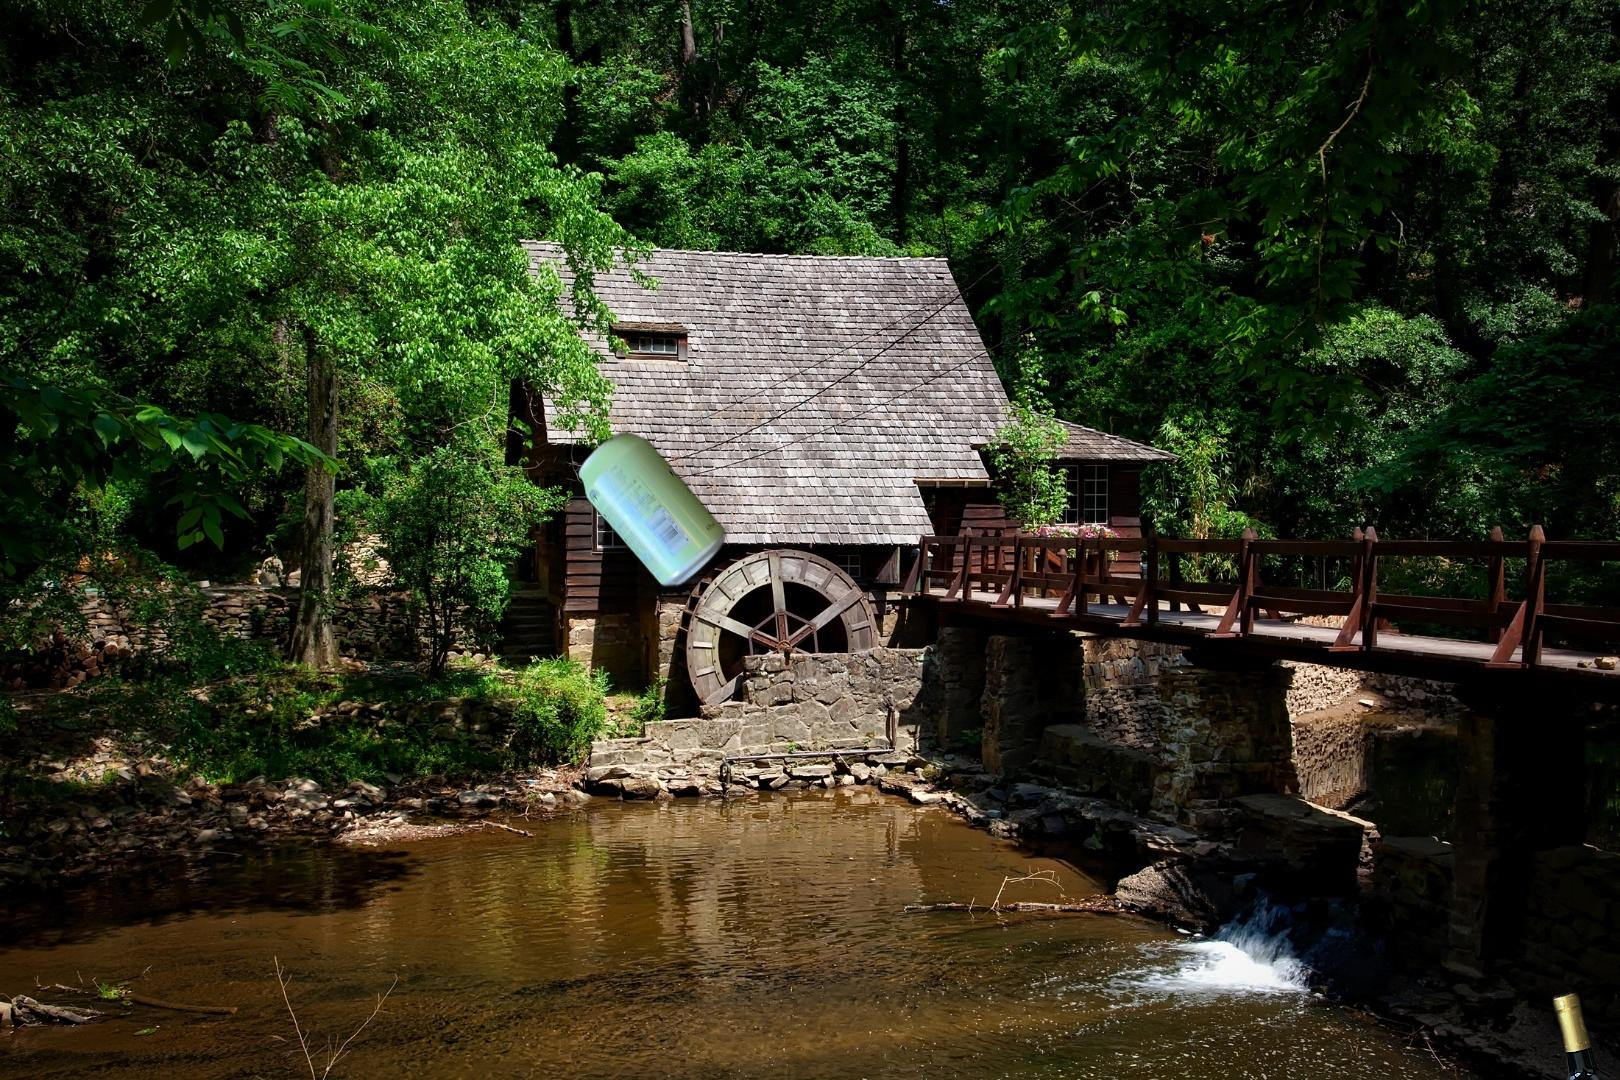glass: (1549, 984, 1620, 1080)
metal-cans: (573, 427, 730, 592)
